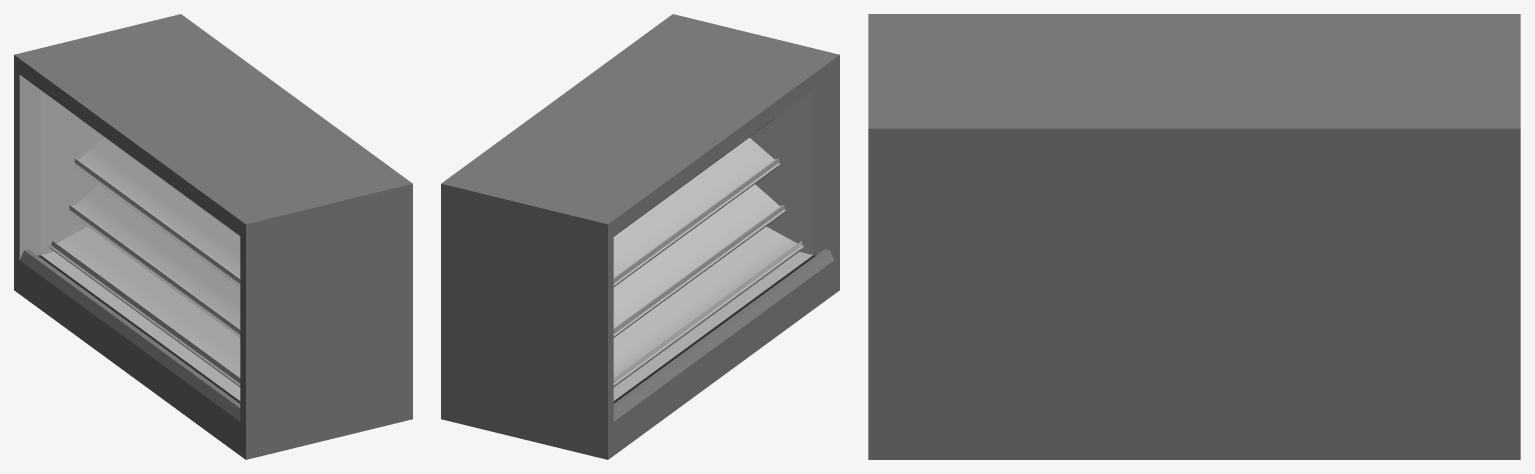
The model's file is WallFreezer.fbx.
The picture shows the model from 3 angles, left to right: view 1: azimuth 30°, elevation 25°; view 2: azimuth 150°, elevation 25°; view 3: azimuth 270°, elevation 25°; orthographic projection. The views are drawn at different scales.
Parts seen in each view (by area): view 1: pCube36; view 2: pCube36; view 3: pCube36.
Boxes of the visible parts, <box> form: pCube36: <box>14,14,412,459</box>; pCube36: <box>441,14,839,459</box>; pCube36: <box>868,14,1520,459</box>.
Bounding box in the file's own units: 8.74 × 11.77 × 21.
1 material, 1 textured.
